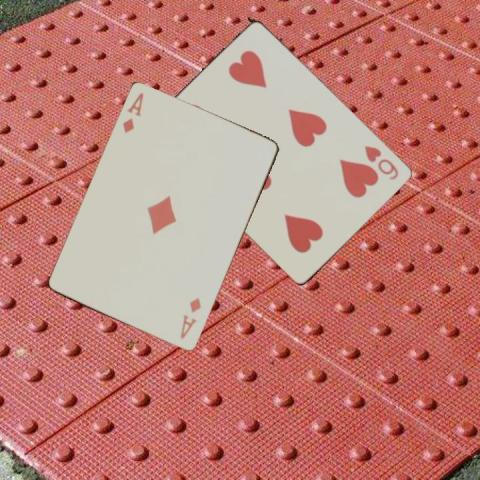6h: (362, 142, 401, 181)
Ad: (177, 295, 203, 341), (120, 90, 146, 136)
